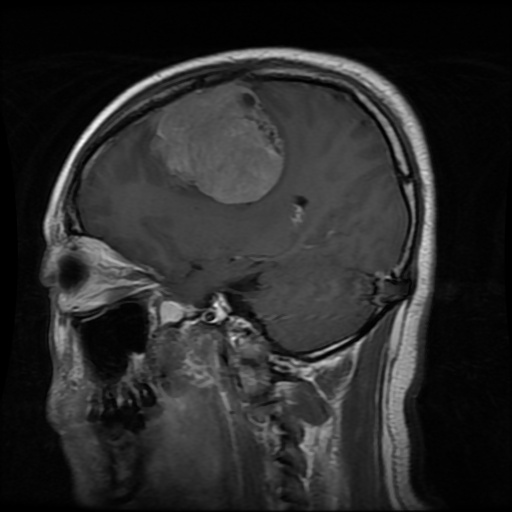meningioma: (151, 83, 284, 203)
